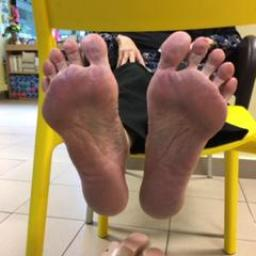Plantar View -Both Feet-: (28, 18, 243, 233)
